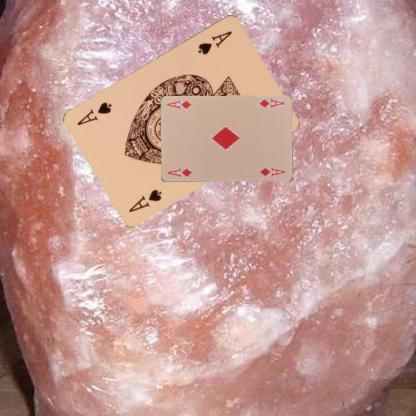Ad: (256, 96, 285, 110), (165, 166, 194, 178)
As: (126, 186, 164, 213), (196, 28, 233, 55)
